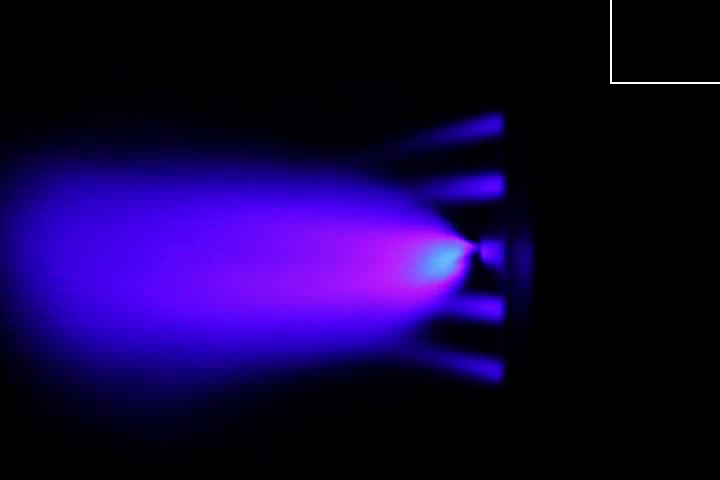burner cap: (482, 238, 507, 271)
pilot flame: (398, 342, 503, 386), (397, 113, 509, 144), (404, 172, 507, 201), (440, 292, 507, 327)
stable: (355, 218, 477, 300)
